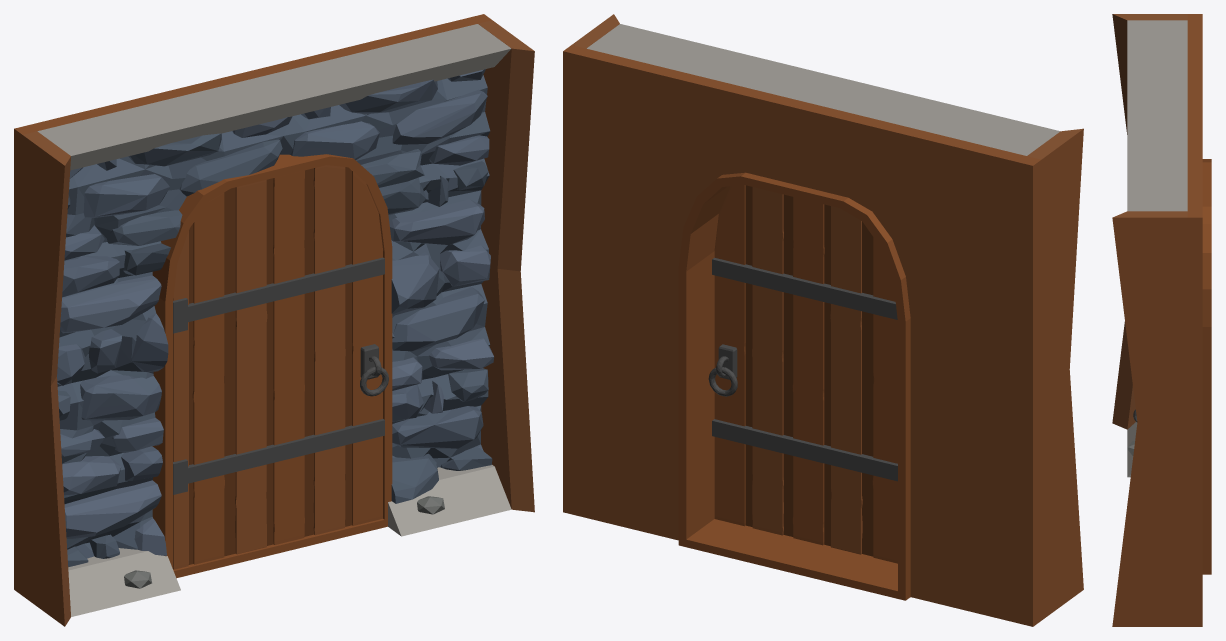
The model's file is Wall_door.glb.
The picture shows the model from 3 angles, left to right: view 1: azimuth 30°, elevation 25°; view 2: azimuth 150°, elevation 25°; view 3: azimuth 270°, elevation 25°; orthographic projection. The views are drawn at different scales.
Visible parts, largest first — view 1: Cube.005, Cube.016; view 2: Cube.005, Cube.016; view 3: Cube.005.
Part boxes in pixels (x1,y1,x2,y2): Cube.005: (14, 14, 534, 626); Cube.016: (173, 165, 388, 569); Cube.005: (563, 14, 1083, 626); Cube.016: (708, 185, 897, 563); Cube.005: (1112, 14, 1211, 626).
Size of the model in its own units: 6.4 by 6 by 1.32.
